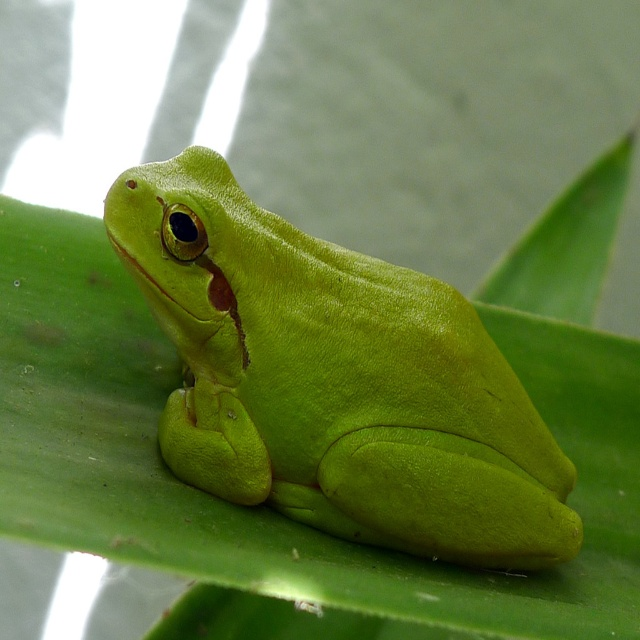Frog: (95, 140, 583, 577)
